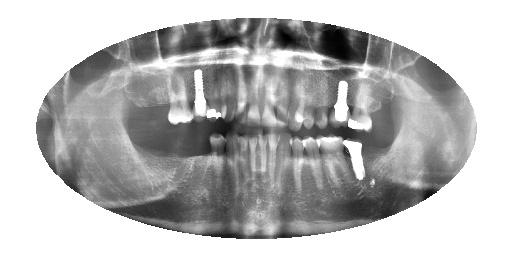i10healthy: (229, 126, 253, 208)
i11healthy: (221, 128, 246, 202)
i12healthy: (203, 125, 230, 205)
i2healthy: (340, 129, 368, 189)
i3healthy: (310, 127, 360, 196)
i4healthy: (301, 131, 328, 192)
i5healthy: (287, 133, 309, 197)
i6healthy: (271, 129, 294, 197)
i7healthy: (264, 126, 285, 197)
i8healthy: (252, 122, 274, 199)
i9healthy: (240, 125, 264, 203)
u10healthy: (228, 60, 254, 130)
u11healthy: (214, 58, 243, 129)
u12healthy: (197, 59, 226, 129)
u13healthy: (186, 60, 219, 134)
u14healthy: (160, 64, 198, 135)
u2healthy: (342, 79, 378, 137)
u3healthy: (326, 72, 356, 138)
u4healthy: (310, 70, 332, 136)
u5healthy: (294, 68, 317, 133)
u6healthy: (283, 63, 307, 137)
u7decay: (270, 57, 295, 130)
u8healthy: (256, 60, 283, 133)
u9healthy: (241, 62, 263, 132)
